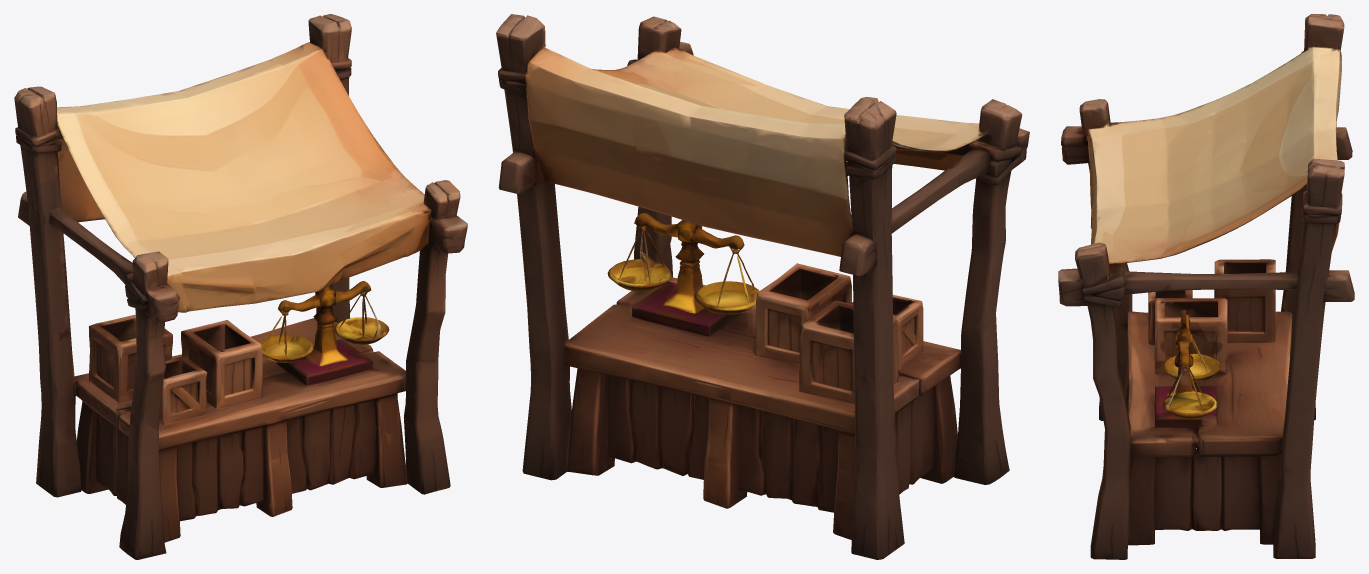
File: stall_1024.glb
3 views of the same model, side by side, from view 1: azimuth 30°, elevation 25°; view 2: azimuth 150°, elevation 25°; view 3: azimuth 270°, elevation 25° (orthographic). The views are drawn at different scales.
Parts seen in each view (by area): view 1: node_0; view 2: node_0; view 3: node_0.
Boxes of the visible parts, x1,y1,x2,y2 form: node_0: (14,14,467,559); node_0: (496,14,1029,559); node_0: (1058,14,1354,559).
Size of the model in its own units: 0.7278 by 0.8318 by 0.5663.
Materials: 1 (1 with a texture image).
